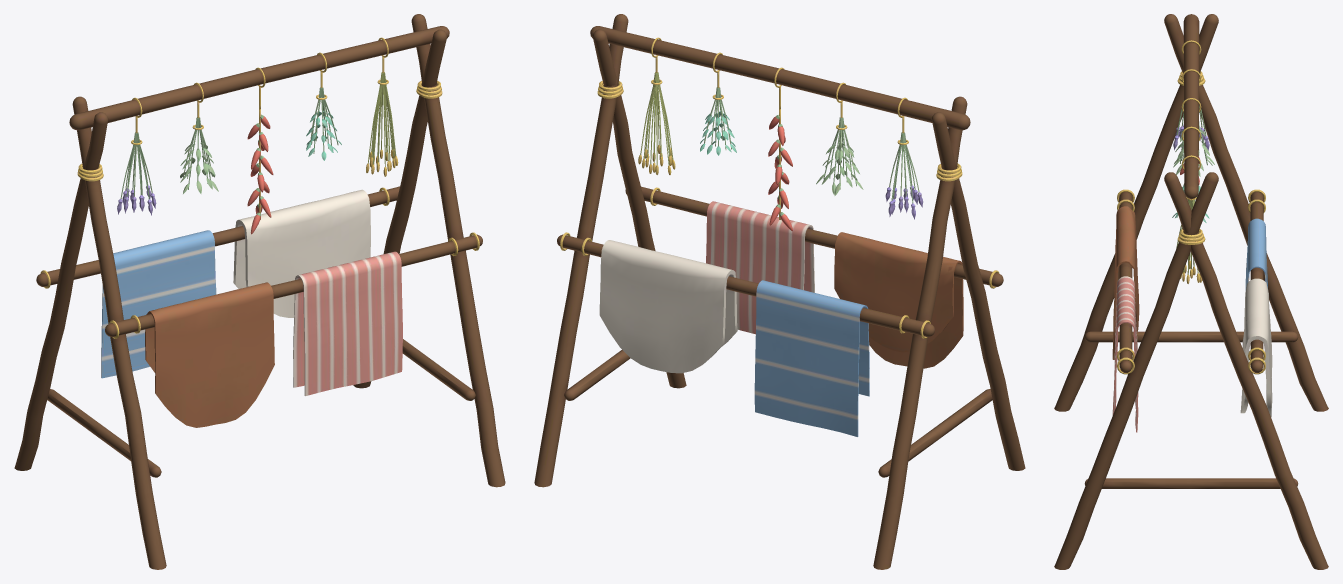
File: drying-rack.glb
The picture shows the model from 3 angles, left to right: view 1: azimuth 30°, elevation 25°; view 2: azimuth 150°, elevation 25°; view 3: azimuth 270°, elevation 25°; orthographic projection. The views are drawn at different scales.
Parts seen in each view (by area): view 1: drying-rack_body; view 2: drying-rack_body; view 3: drying-rack_body.
Boxes of the visible parts, x1,y1,x2,y2 form: drying-rack_body: (14, 14, 505, 569); drying-rack_body: (534, 14, 1025, 569); drying-rack_body: (1054, 14, 1328, 569).
Bounding box in the file's own units: 1.47 × 1.53 × 0.9698.
1 material, 1 textured.
